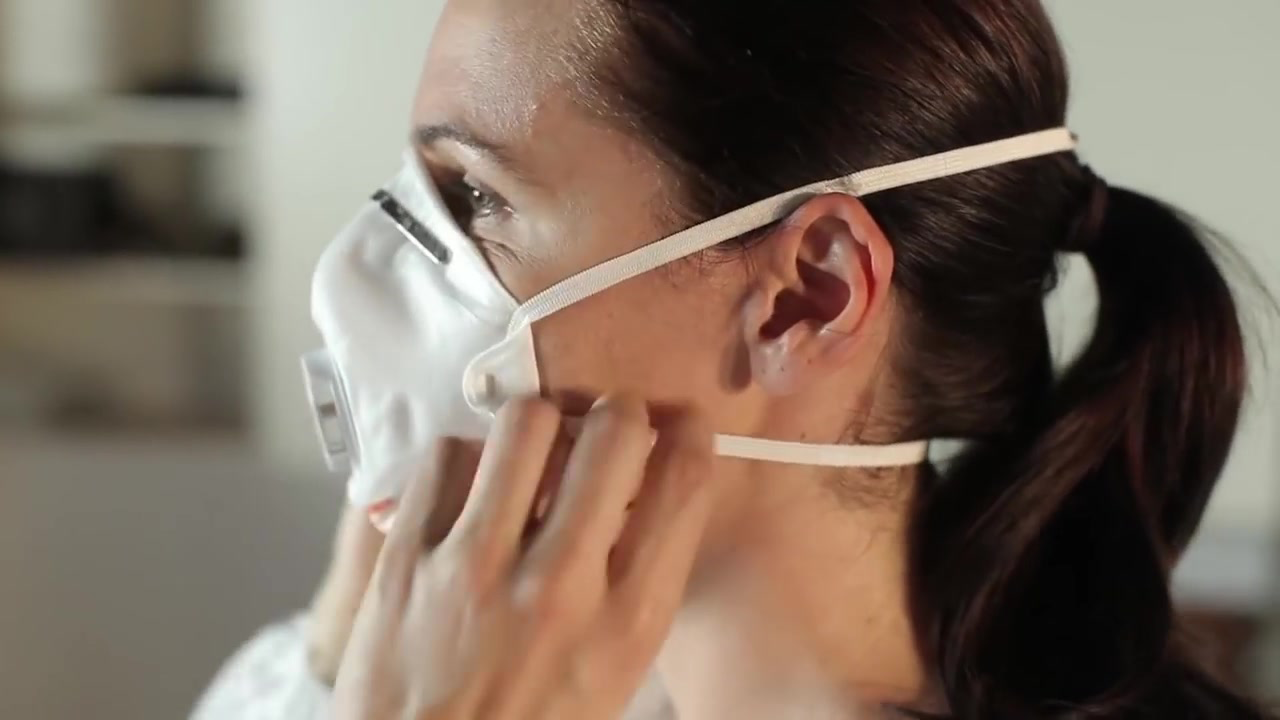with_mask: (294, 143, 573, 553)
